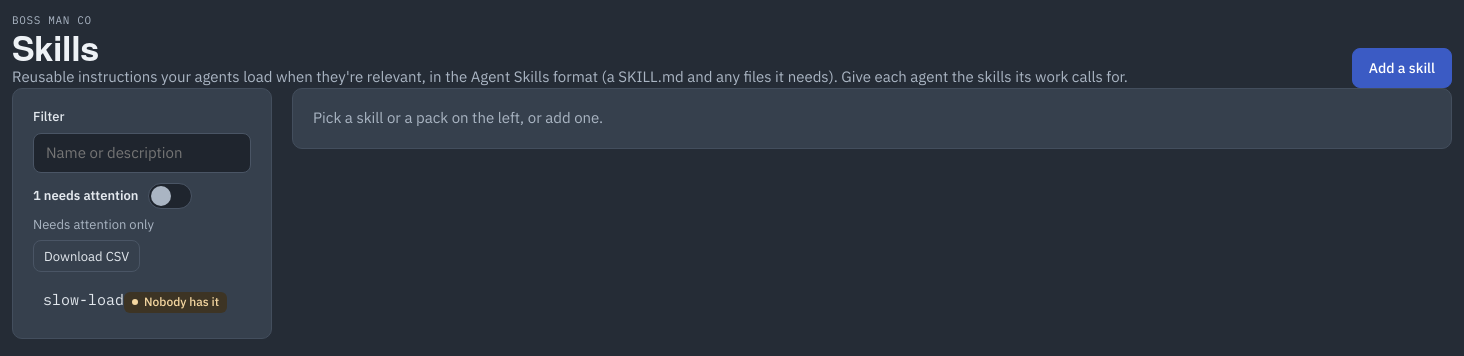
Scenario: skills › shows a loader in the skill pane while the skill loads
The image size is (1464, 356).
Click the link "slow-load Nobody has it".
click(135, 302)  # box [43, 290, 227, 313]
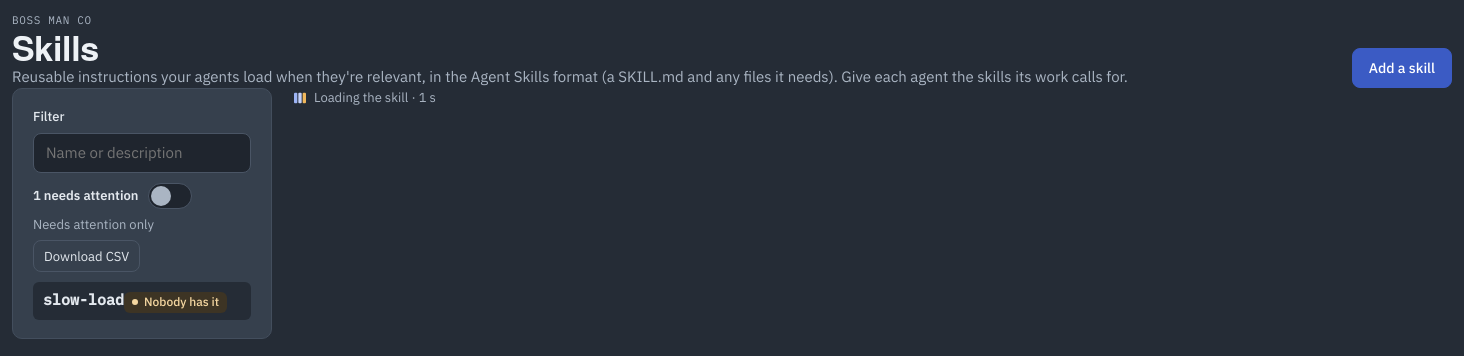
Now the text "Loading the skill · 1 s" is shown, box [314, 88, 436, 108]
